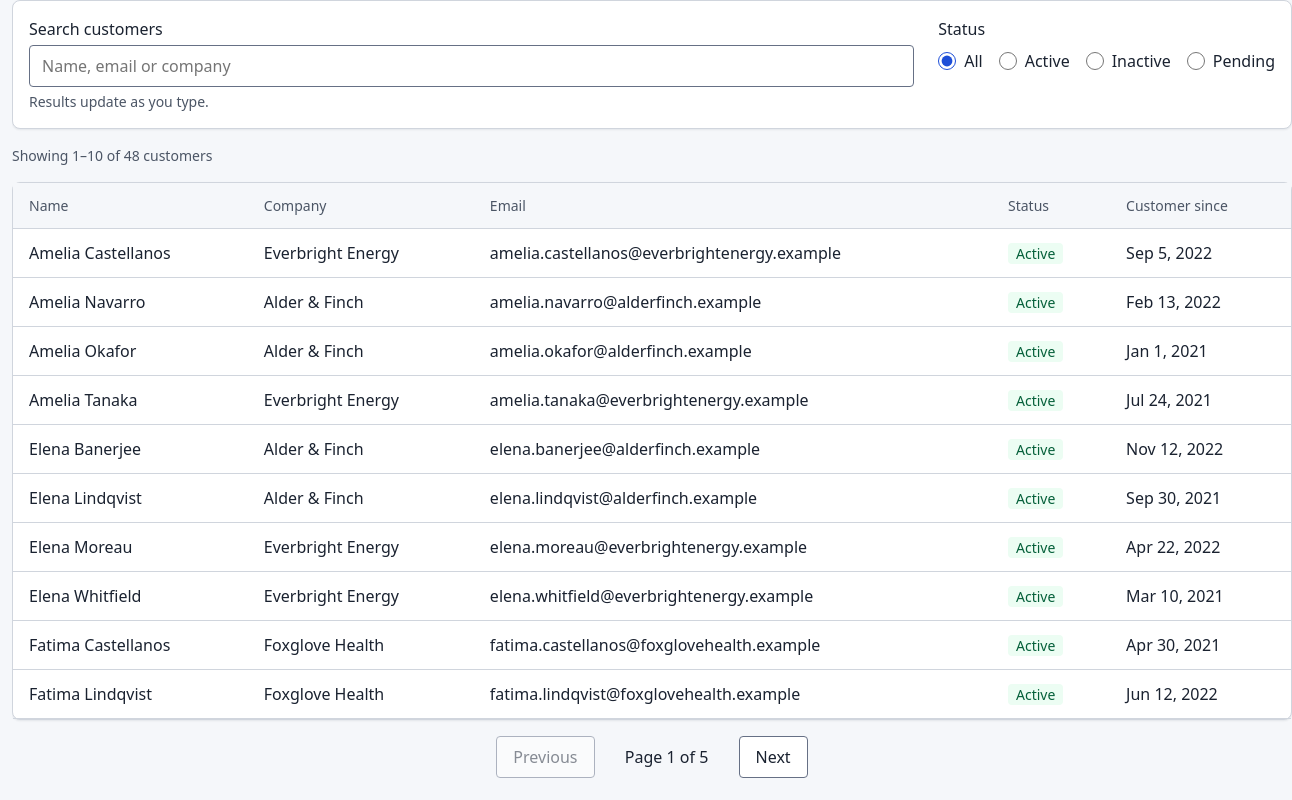
Test: CustomerDashboard: pagination › moves forward and back and updates the summary
What coordinates should you click on to do the following:
click the button with aria-label "Next page"
I would click on:
 (773, 757)
Its box is [738,736,808,778].
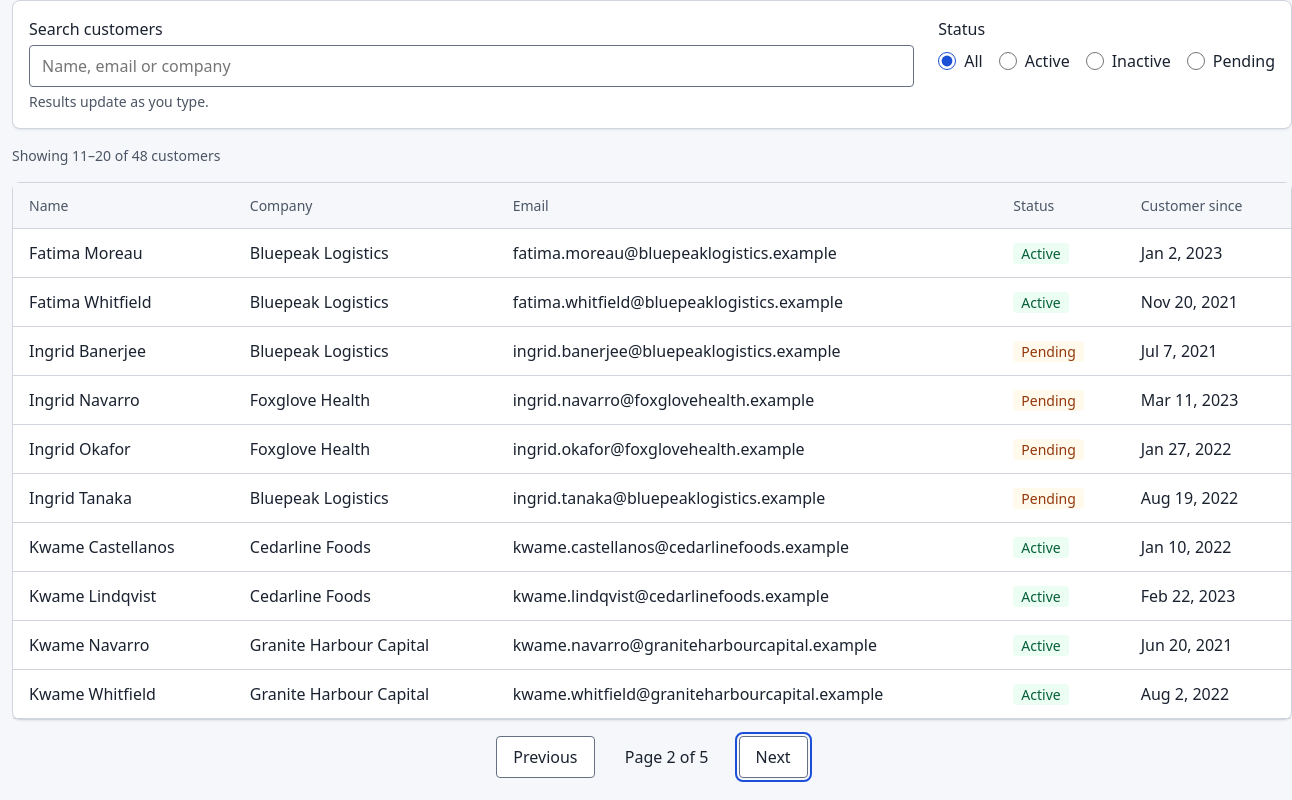
Check: the text "Showing 11–20 of 48 customers" is shown, box [12,146,220,165]
Check: the text "Page 2 of 5" is shown, box [625,746,708,768]
What coordinates should you click on to do the following:
click the button with aria-label "Previous page"
I would click on:
 (546, 757)
Its box is [496,736,595,778].
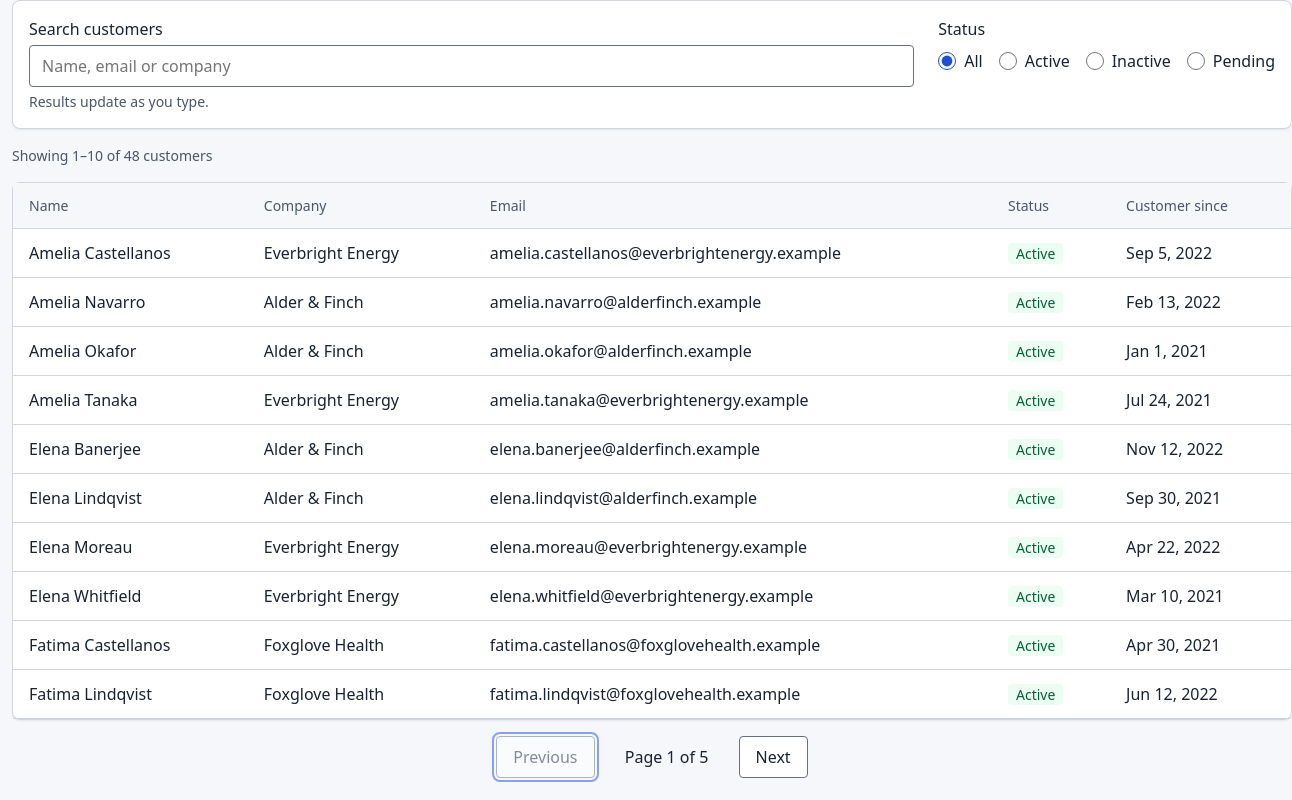
Check: the text "Showing 1–10 of 48 customers" is shown, box [12,146,212,165]
